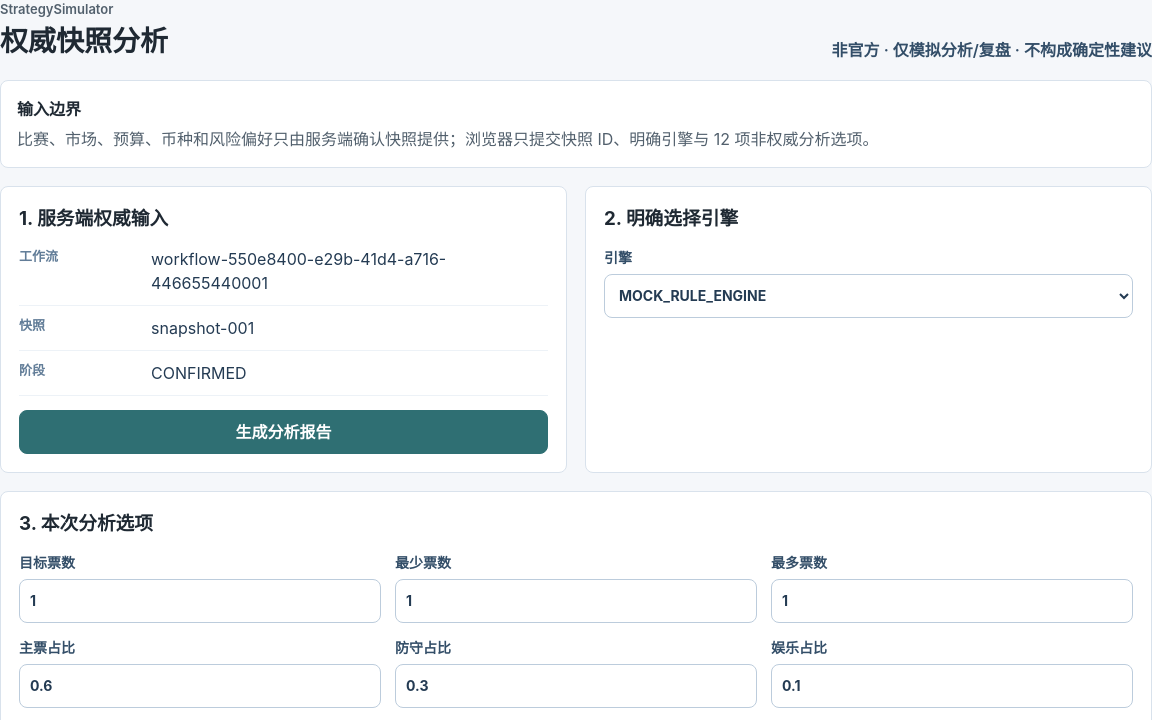
StrategySimulator authoritative requests › persists first and sends the exact Mock body with only 12 non-authority options
Expected: the dropdown with test id "analysis-engine-select" is enabled, [604,274,1133,318]
Expected: the number field with test id "option-target" is enabled, [19,579,381,623]
Click the button with test id "generate-analysis-button" at (284, 432), box [19,410,548,454]
(page scrolled)
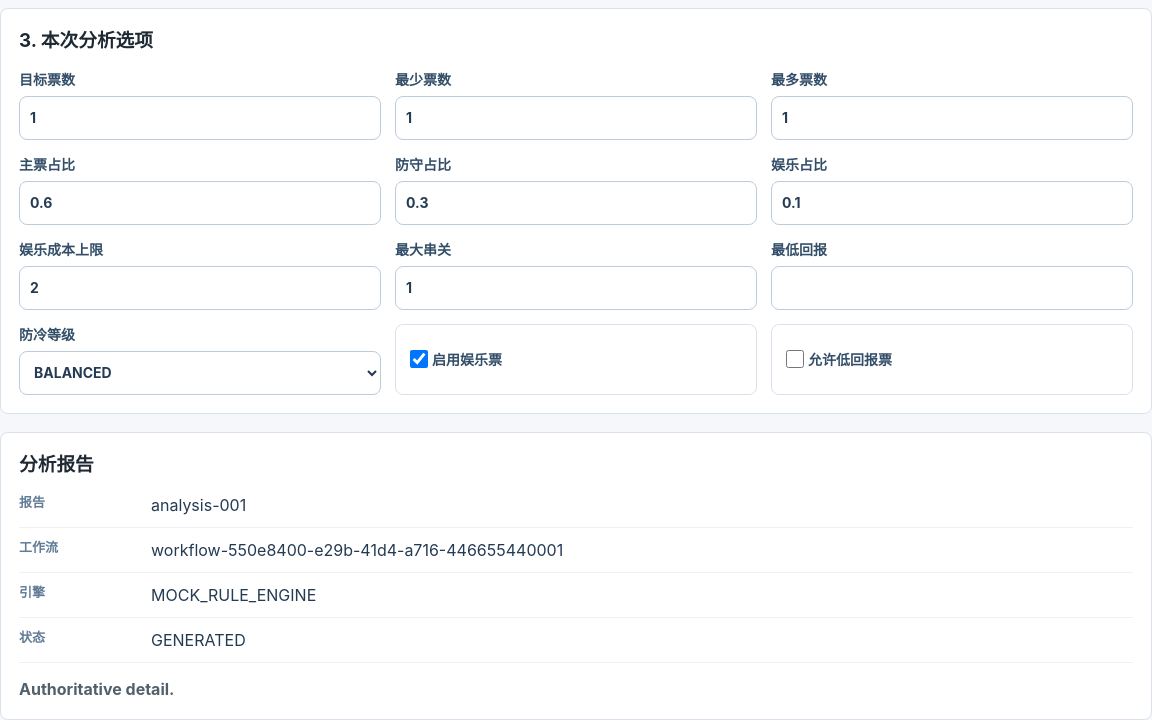
Expected: the text "Authoritative detail." is shown, [19,679,174,699]
